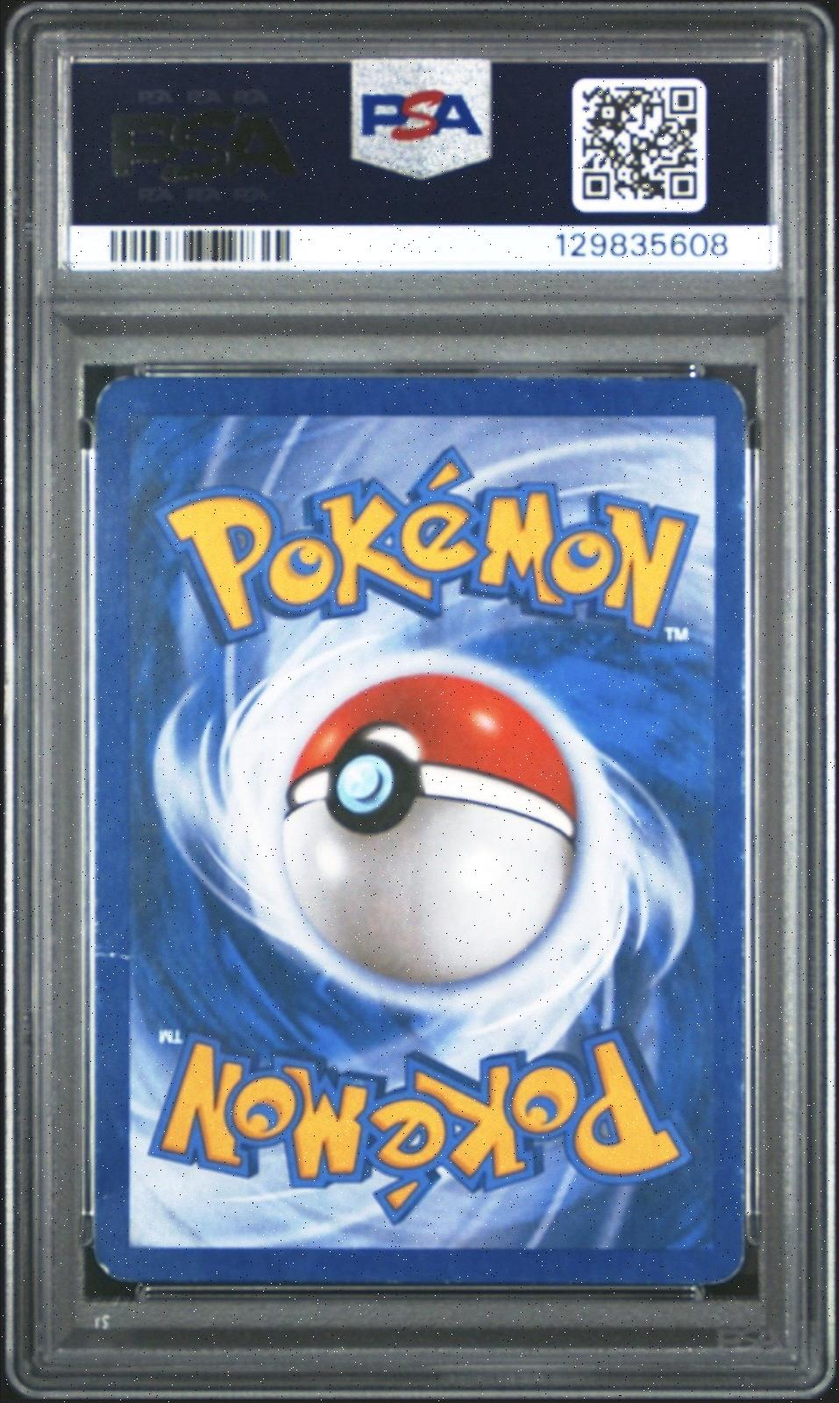card-2UtV: (93, 373, 748, 1286)
